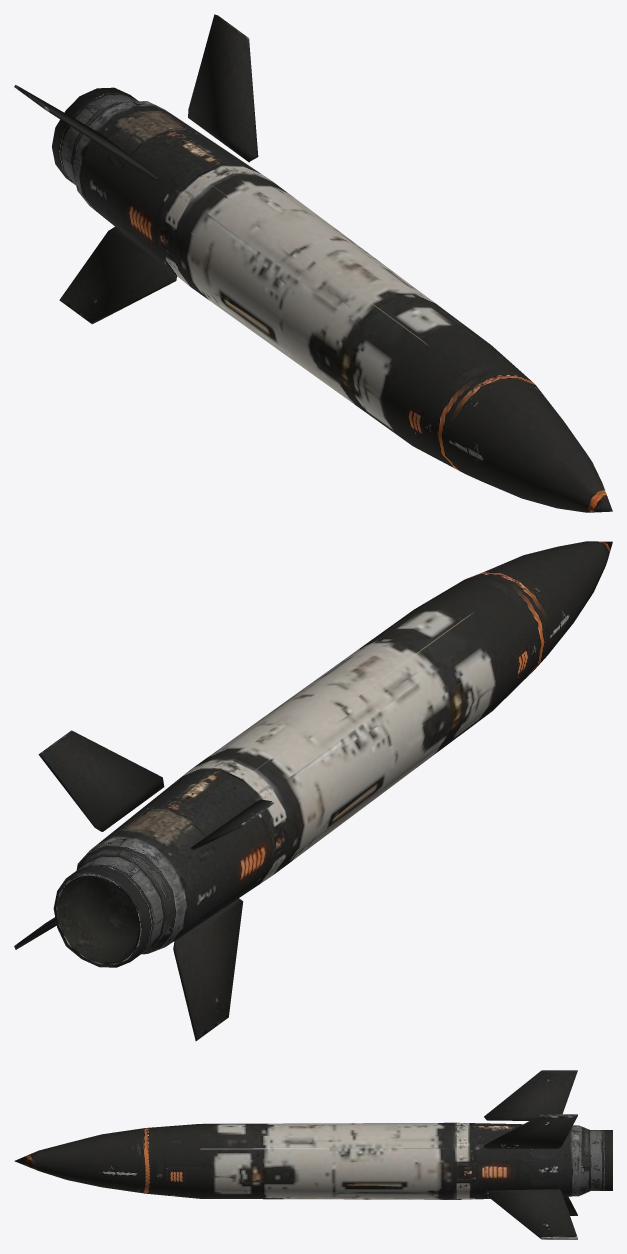
File: rocket.glb
3 renders of one model, top to bottom at view 1: azimuth 30°, elevation 25°; view 2: azimuth 150°, elevation 25°; view 3: azimuth 270°, elevation 25°, orthographic. The views are drawn at different scales.
Visible parts, largest first — view 1: tripo_node_df8d97ae-9344-4947-87fa-9645b47b592e; view 2: tripo_node_df8d97ae-9344-4947-87fa-9645b47b592e; view 3: tripo_node_df8d97ae-9344-4947-87fa-9645b47b592e.
Boxes of the visible parts, x1=… form: tripo_node_df8d97ae-9344-4947-87fa-9645b47b592e: x1=14, y1=14, x2=612, y2=512; tripo_node_df8d97ae-9344-4947-87fa-9645b47b592e: x1=14, y1=541, x2=612, y2=1041; tripo_node_df8d97ae-9344-4947-87fa-9645b47b592e: x1=14, y1=1070, x2=612, y2=1239.
Size of the model in its own units: 0.2559 by 0.2676 by 0.998.
Materials: 1 (1 with a texture image).
